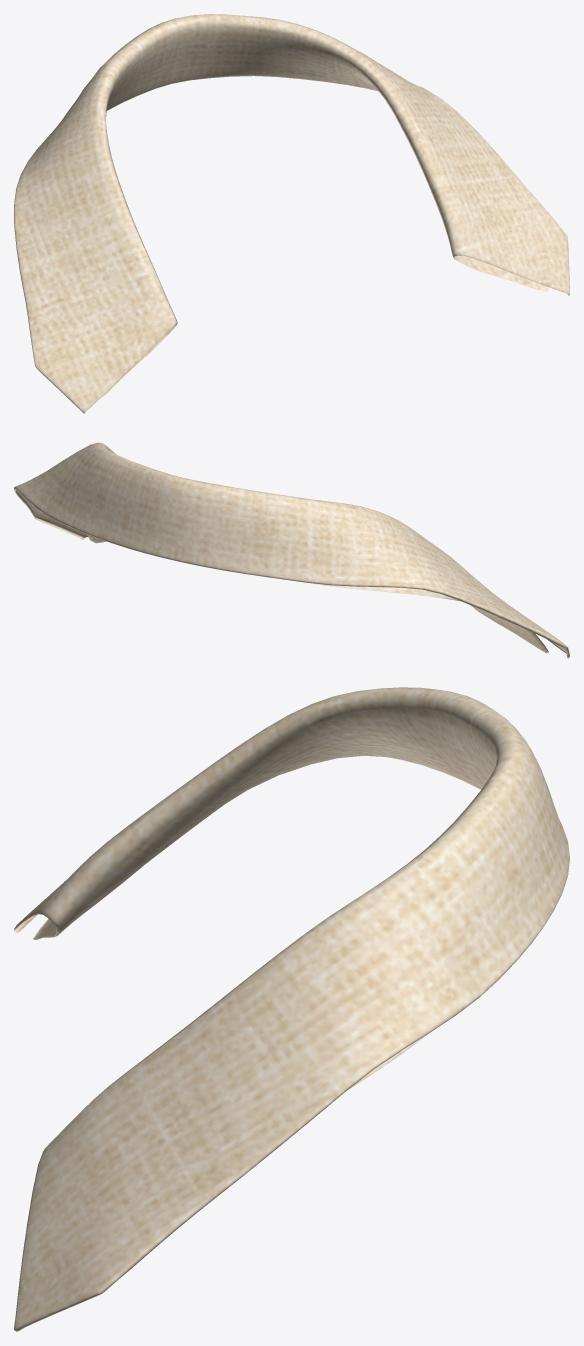
The model's file is Notch_Collar.glb.
3 views of the same model, one above another, from view 1: azimuth 30°, elevation 25°; view 2: azimuth 150°, elevation 25°; view 3: azimuth 270°, elevation 25° (orthographic). The views are drawn at different scales.
Visible parts, largest first — view 1: notch_collar; view 2: notch_collar; view 3: notch_collar.
Boxes of the visible parts, left/top/right/bottom form: notch_collar: left=14, top=14, right=569, bottom=413; notch_collar: left=14, top=442, right=569, bottom=658; notch_collar: left=14, top=687, right=569, bottom=1331.
Size of the model in its own units: 0.0371 by 0.0152 by 0.0199.
Materials: 1 (1 with a texture image).
